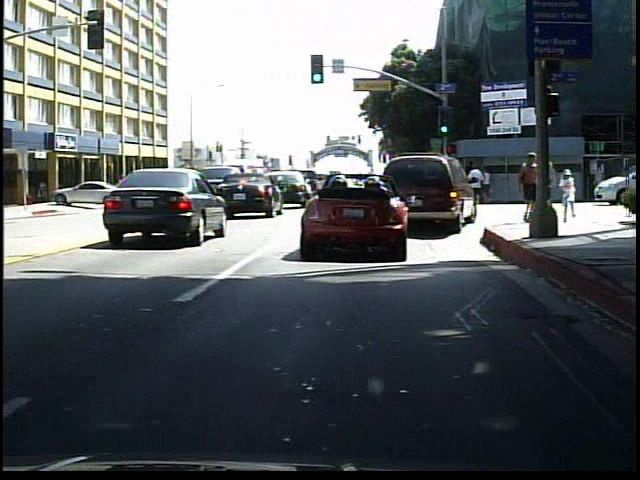person: (512, 149, 542, 221), (555, 170, 580, 223), (124, 172, 142, 205)
